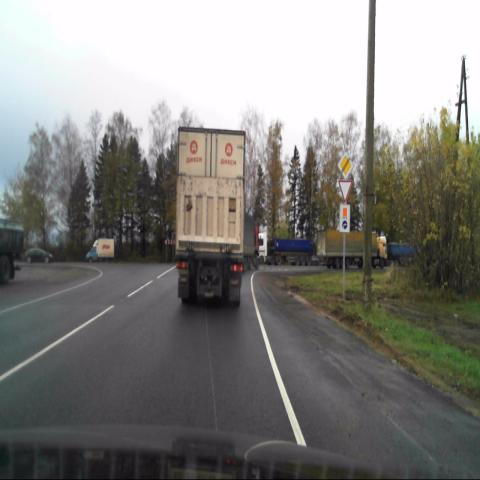4_8_3: (339, 204, 350, 233)
